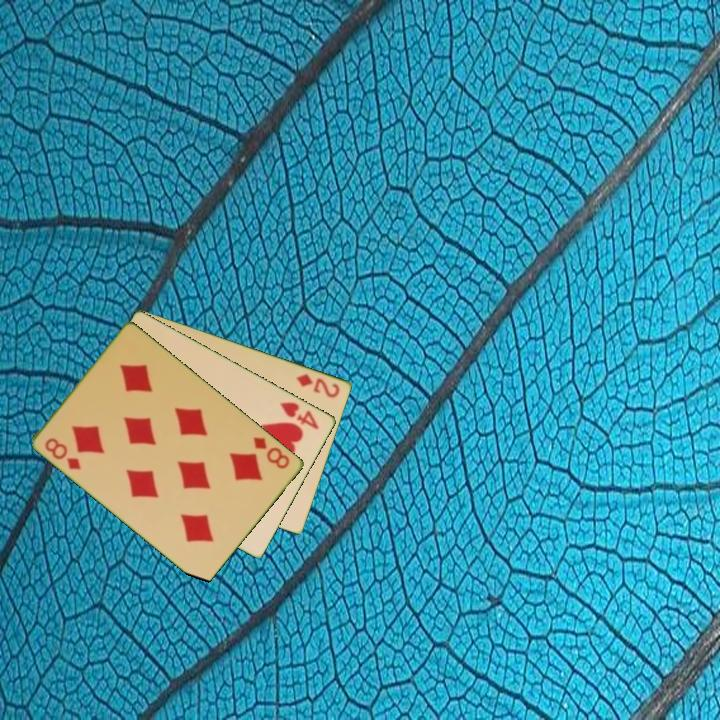2d: (292, 370, 343, 401)
4h: (276, 398, 322, 433)
8d: (250, 433, 293, 472), (42, 434, 84, 473)
